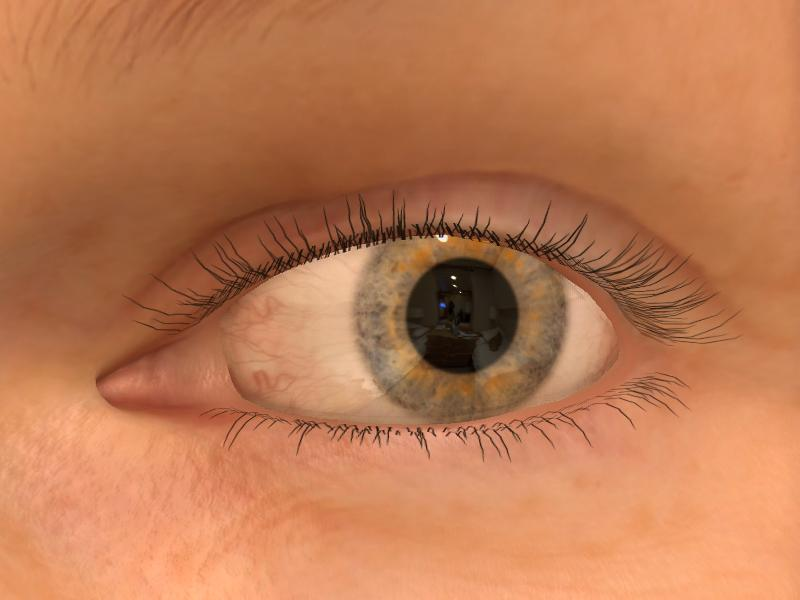eye: (355, 233, 572, 420)
